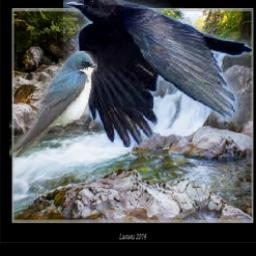Crow: (63, 0, 252, 148)
Swallow: (10, 52, 98, 158)
